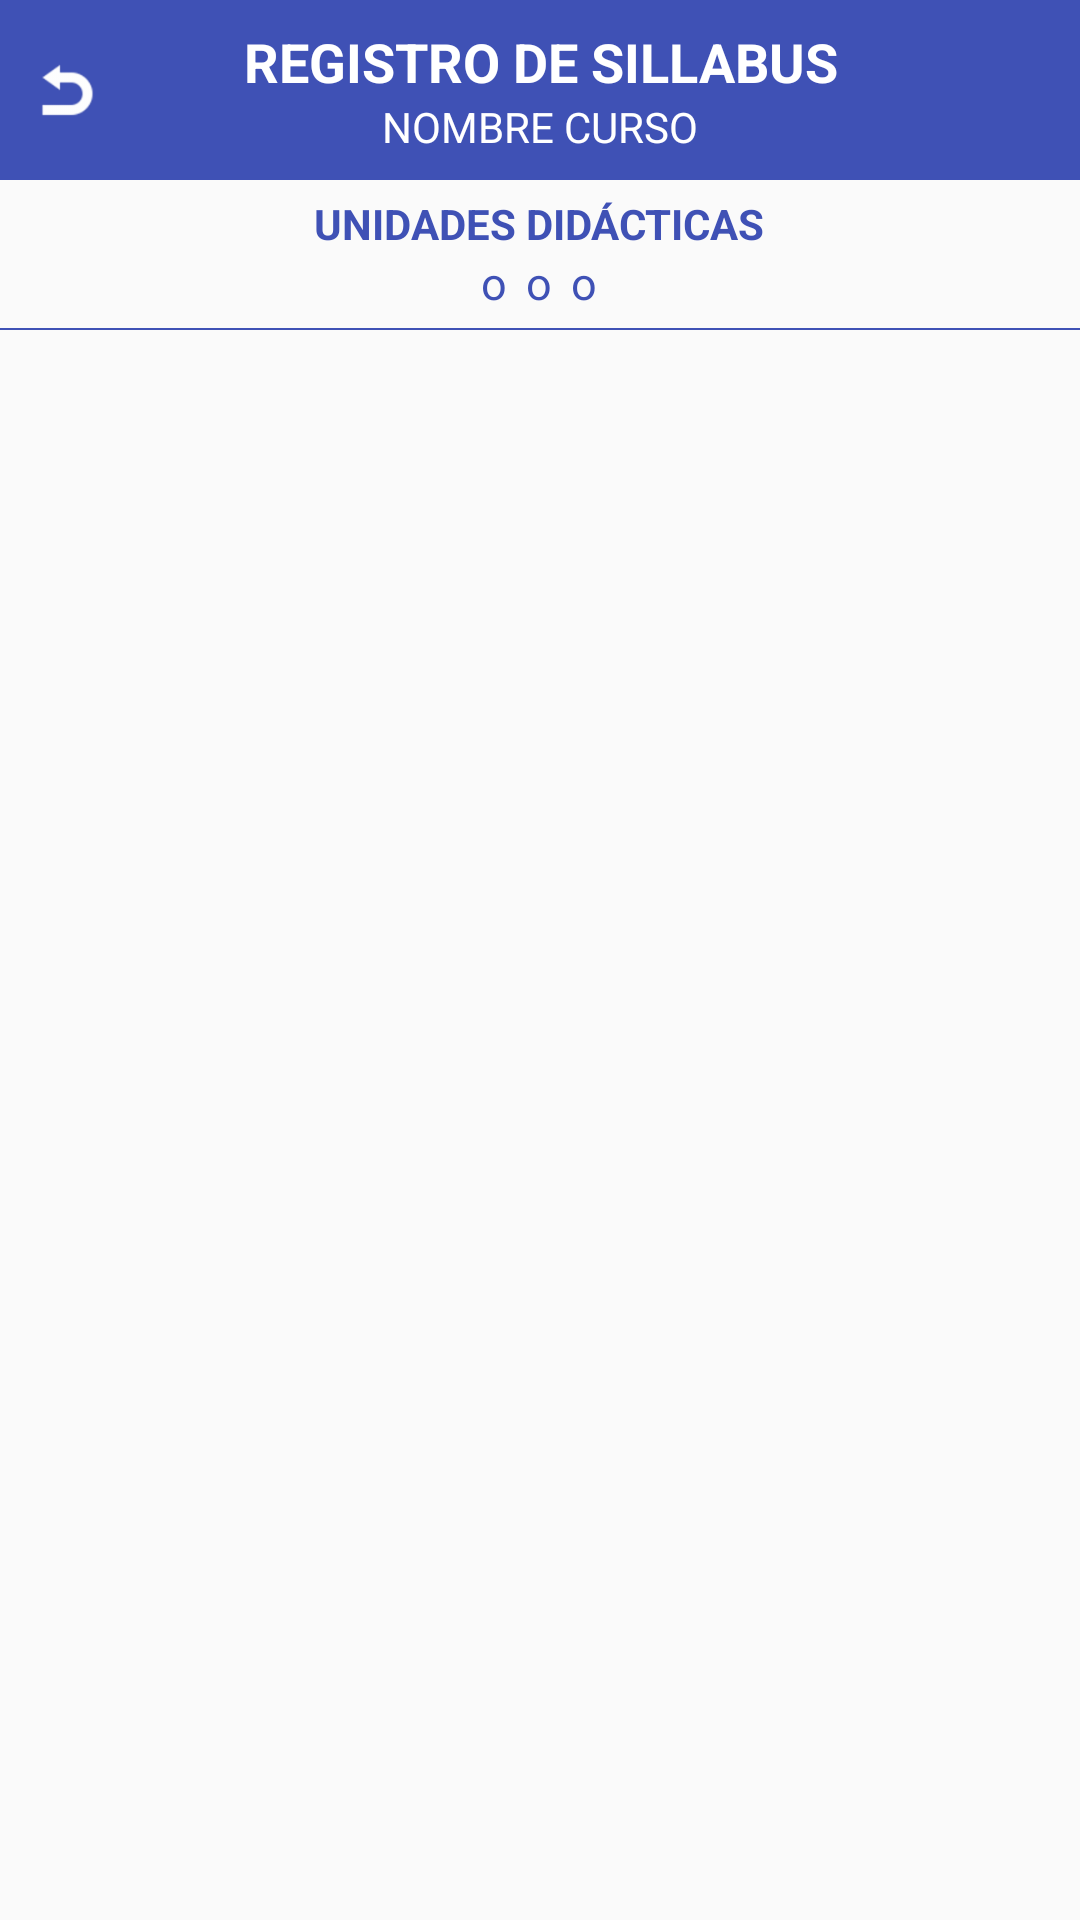

Named icons in this screenshot (1080px×1920px) and their centers, point (x, y):
btnback: point (67, 90)
